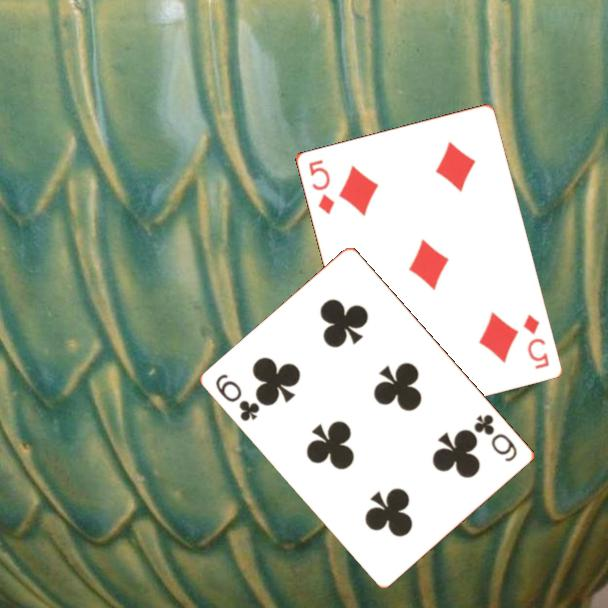c06: (212, 370, 263, 424), (471, 411, 521, 465)
d05: (305, 156, 337, 217), (520, 311, 552, 372)
